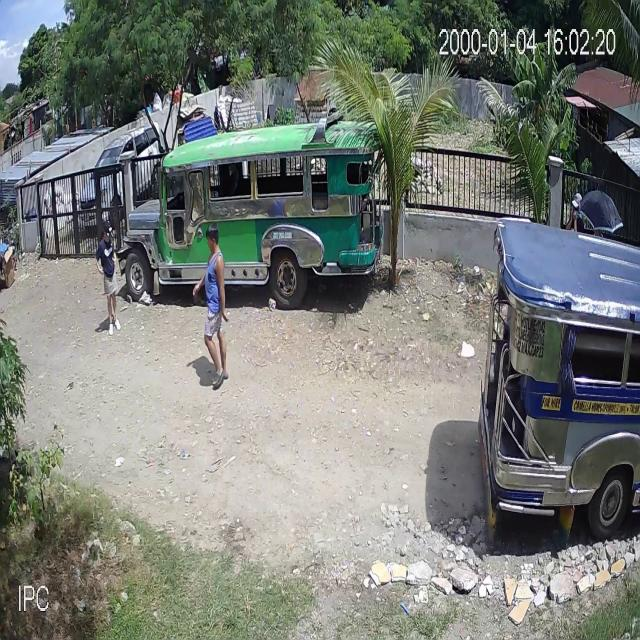standing: (96, 221, 123, 339), (566, 191, 585, 236)
walking: (193, 226, 233, 391)
